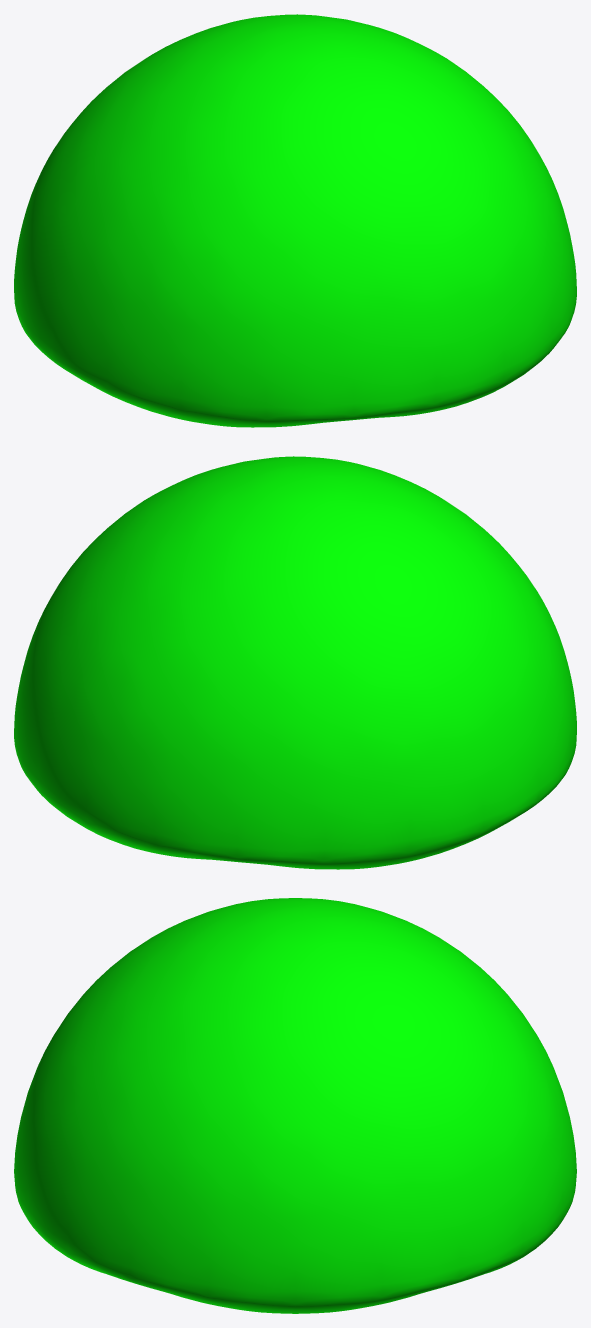
The model's file is slime_green.glb.
The picture shows the model from 3 angles, top to bottom: view 1: azimuth 30°, elevation 25°; view 2: azimuth 150°, elevation 25°; view 3: azimuth 270°, elevation 25°; orthographic projection.
Parts seen in each view (by area): view 1: Icosphere; view 2: Icosphere; view 3: Icosphere.
Part boxes in pixels (<box>): Icosphere: <box>14,14,576,427</box>; Icosphere: <box>14,456,576,869</box>; Icosphere: <box>14,898,576,1313</box>.
Bounding box in the file's own units: 1.96 × 1.18 × 1.96.
